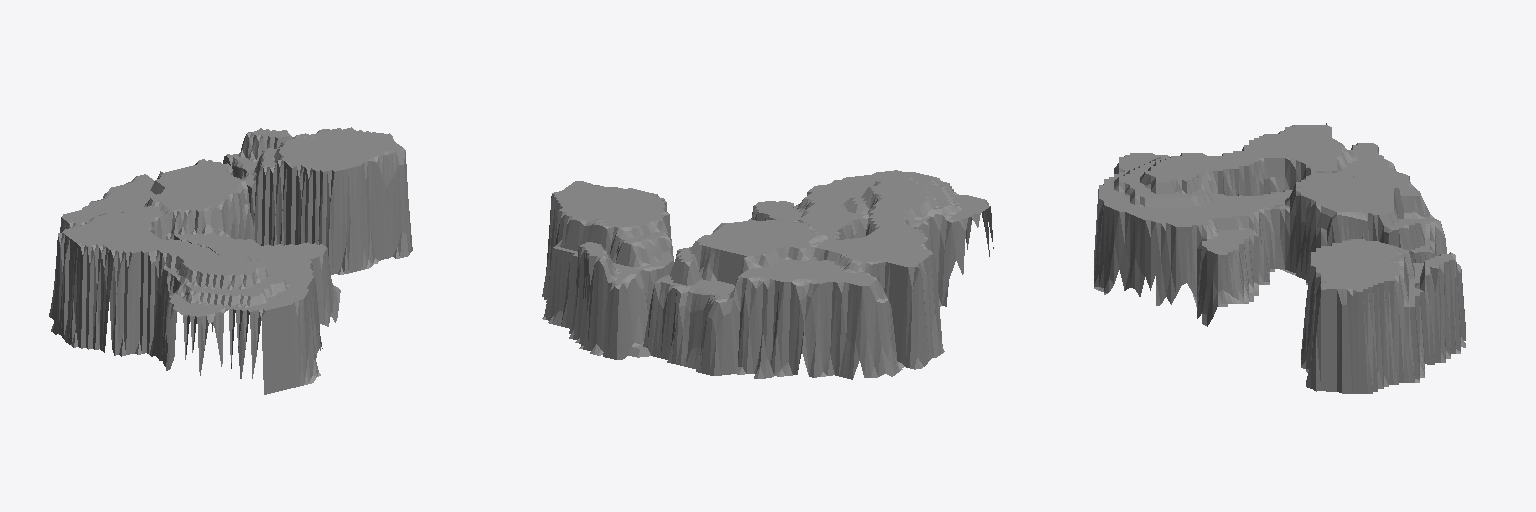
Rendered from Timeforest_KM2_Terrian.obj.
3 renders of one model, left to right at view 1: azimuth 30°, elevation 25°; view 2: azimuth 150°, elevation 25°; view 3: azimuth 270°, elevation 25°, orthographic.
Parts seen in each view (by area): view 1: default; view 2: default; view 3: default.
Part boxes in pixels (left/top/right/bottom): default: left=49, top=127, right=412, bottom=394; default: left=542, top=170, right=993, bottom=379; default: left=1094, top=123, right=1465, bottom=393.
Size of the model in its own units: 30.83 by 8.24 by 27.75.